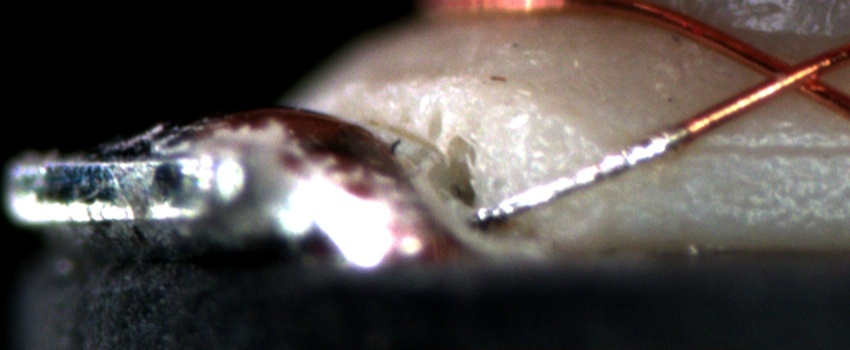CL: (738, 44, 839, 105)
DL: (693, 119, 850, 186)
TS: (473, 127, 687, 221)
